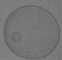small: (11, 31, 22, 42)
